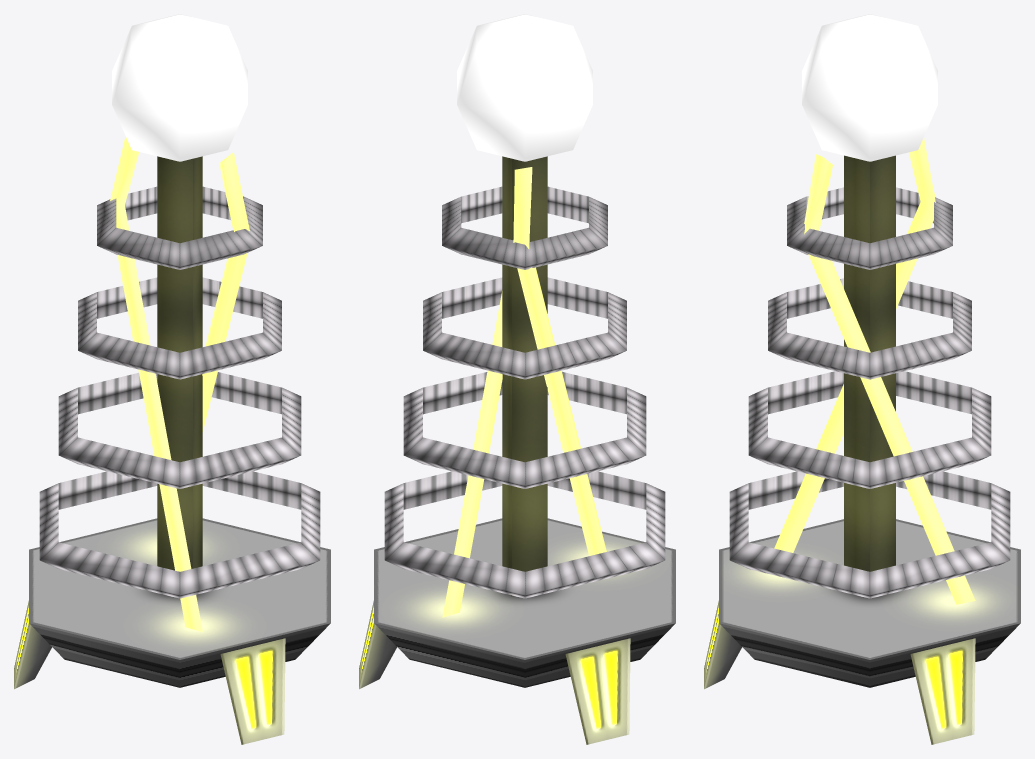
File: electrap.fbx
3 renders of one model, left to right at view 1: azimuth 30°, elevation 25°; view 2: azimuth 150°, elevation 25°; view 3: azimuth 270°, elevation 25°, orthographic.
Parts seen in each view (by area): view 1: electrap; view 2: electrap; view 3: electrap.
Part boxes in pixels (x1,y1,x2,y2): electrap: (14,14,330,744); electrap: (359,14,675,744); electrap: (704,14,1020,744).
Size of the model in its own units: 1.89 by 3.97 by 1.72.
